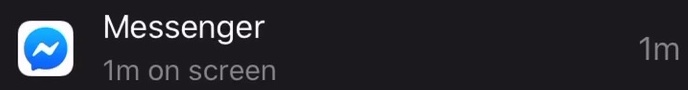name: (99, 11, 271, 48)
time: (101, 54, 145, 89)
